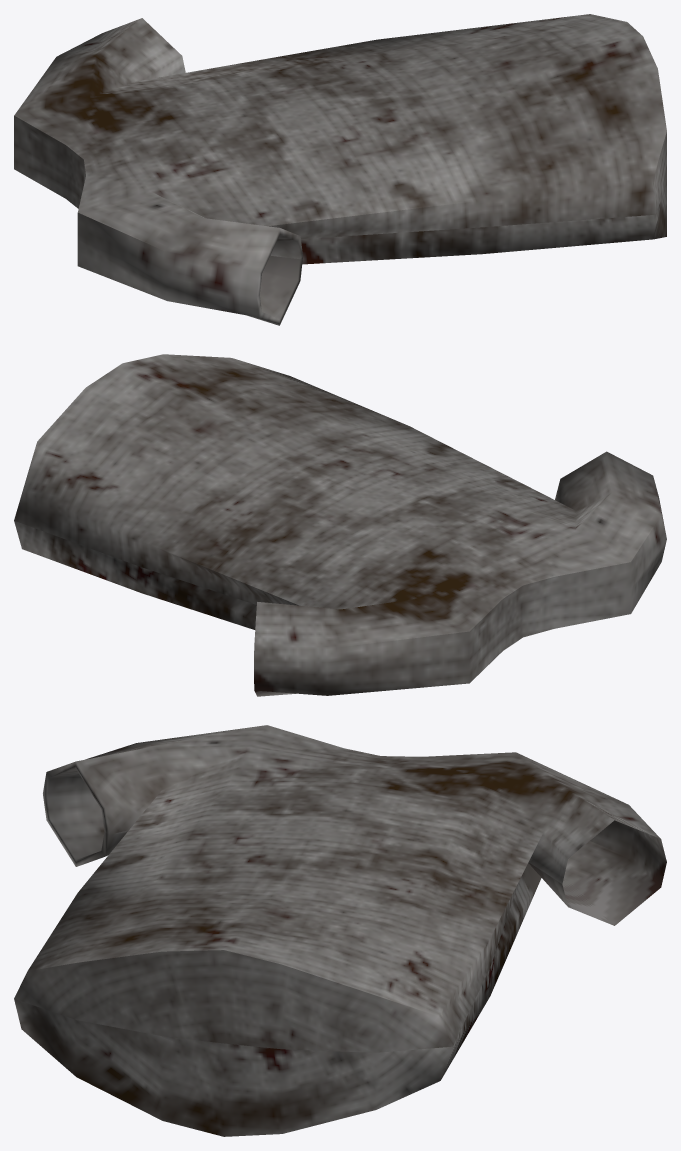
Rendered from CamisaPiso.fbx.
3 views of the same model, one above another, from view 1: azimuth 30°, elevation 25°; view 2: azimuth 150°, elevation 25°; view 3: azimuth 270°, elevation 25° (orthographic). The views are drawn at different scales.
Parts seen in each view (by area): view 1: Camisa.002; view 2: Camisa.002; view 3: Camisa.002.
Boxes of the visible parts, left/top/right/bottom form: Camisa.002: left=14, top=14, right=666, bottom=325; Camisa.002: left=14, top=354, right=666, bottom=696; Camisa.002: left=14, top=725, right=666, bottom=1136.
Bounding box in the file's own units: 120 × 35.2 × 111.
1 material, 1 textured.
